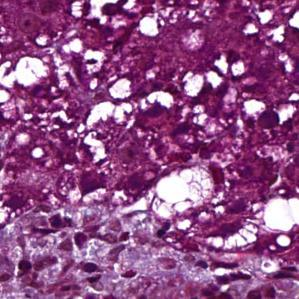ballooning: (148, 161, 217, 222)
